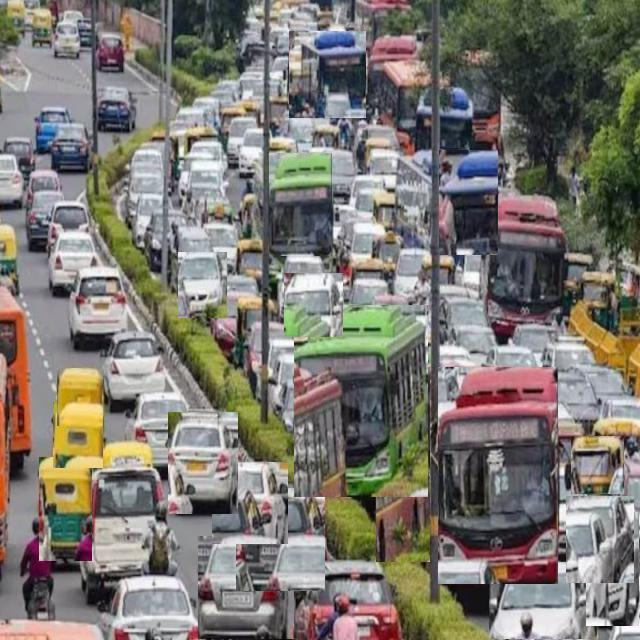autorickshaw: (39, 457, 92, 561), (54, 403, 103, 468), (571, 437, 624, 494), (58, 369, 103, 426)
bus: (439, 367, 558, 584), (295, 305, 428, 497), (480, 195, 565, 339), (376, 367, 430, 562), (289, 32, 366, 118), (269, 154, 332, 256), (440, 150, 498, 255), (396, 150, 431, 245)
car: (80, 467, 162, 599), (199, 537, 294, 639), (236, 489, 325, 591), (295, 561, 402, 640), (490, 563, 597, 639), (169, 413, 238, 514), (100, 576, 201, 640), (212, 463, 288, 544), (586, 512, 640, 626), (566, 497, 634, 583), (101, 332, 166, 410), (69, 266, 128, 348), (125, 392, 188, 468), (285, 273, 343, 337), (539, 371, 599, 430), (179, 253, 227, 318), (49, 231, 98, 293), (46, 201, 89, 257)
motorcycle: (20, 518, 56, 620)
